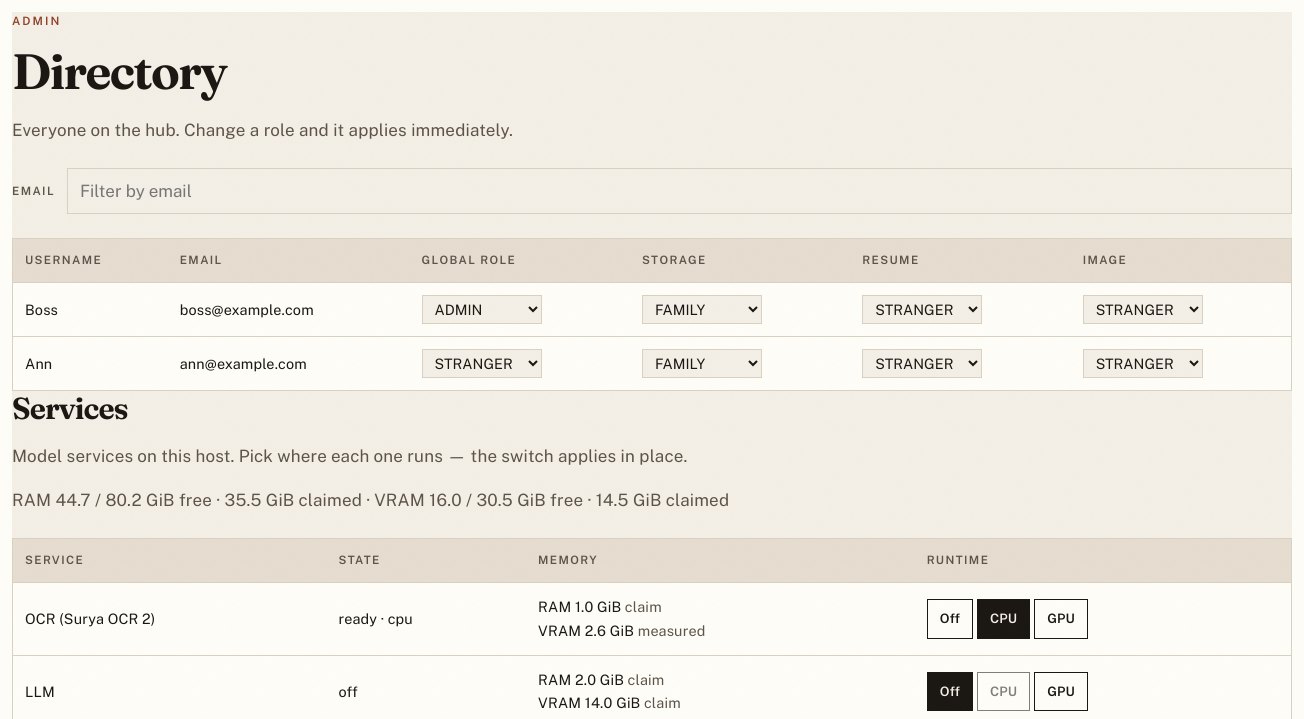
it: Admin › shows no-match copy when email filter hides every loaded row
expect the text "Ann" is shown: met, box [13,337,168,390]
Type "zzz@nope.example" into the search field labelled "Email" at (680, 191), box [67,168,1292,214]
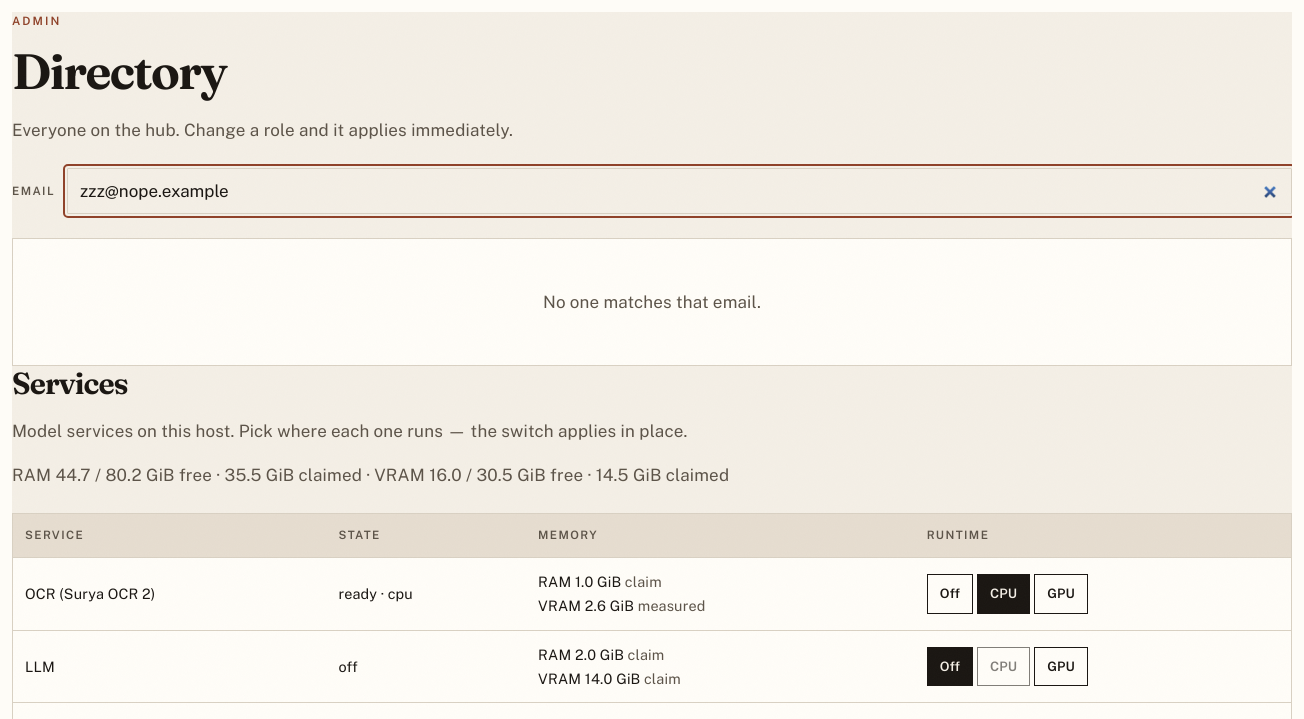
expect the text "No one matches that email." is shown: met, box [543,292,761,312]
expect the text "Ann" is gone: met
